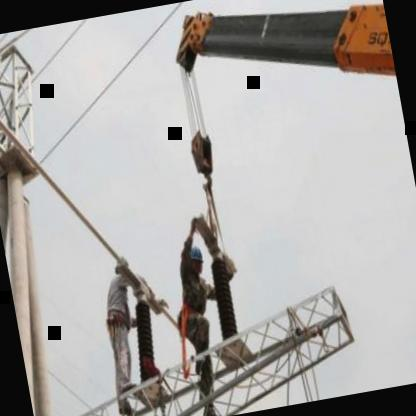helmet: (186, 238, 208, 278)
